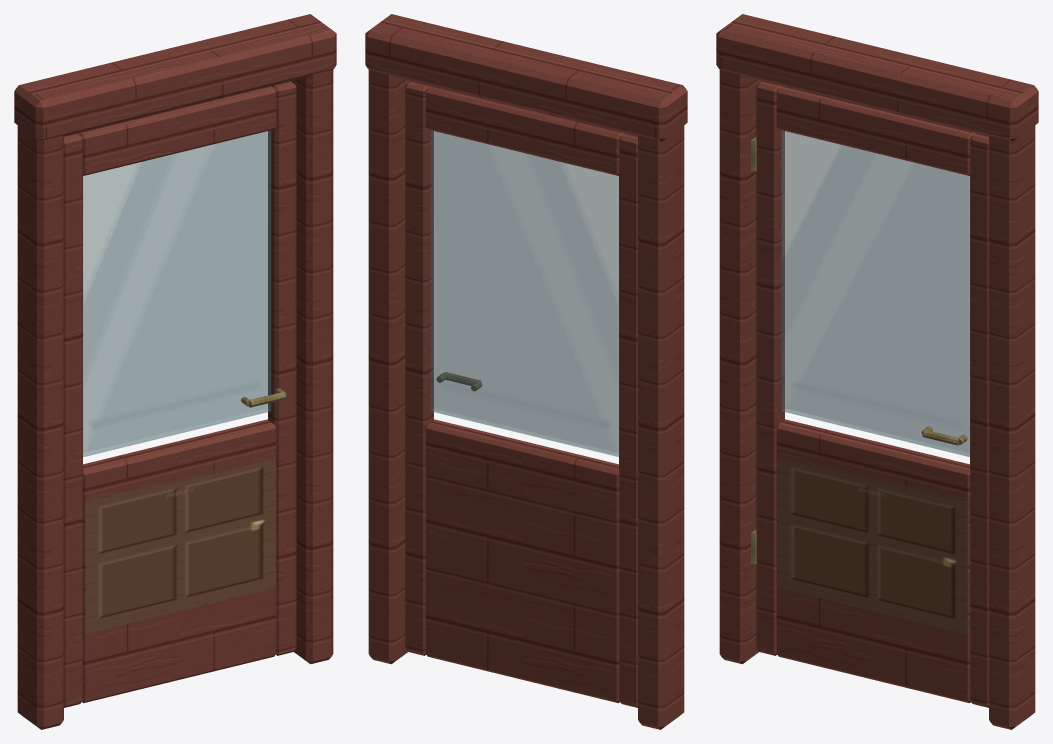
File: MD_10_GlazedDoor.fbx
The picture shows the model from 3 angles, left to right: view 1: azimuth 30°, elevation 25°; view 2: azimuth 150°, elevation 25°; view 3: azimuth 330°, elevation 25°; orthographic projection.
Visible parts, largest first — view 1: MD_10_GlazedDoor_glazed_insert, MD_10_GlazedDoor_door_casing, MD_10_GlazedDoor_lower_inlay, MD_10_GlazedDoor_door_casing.001, MD_10_GlazedDoor_door_crown, MD_10_GlazedDoor_leaf_other_stile, MD_10_GlazedDoor_leaf_crossrail, MD_10_GlazedDoor_hinged_leaf_stile, MD_10_GlazedDoor_leaf_crossrail.002, MD_10_GlazedDoor_leaf_crossrail.001; view 2: MD_10_GlazedDoor_glazed_insert, MD_10_GlazedDoor_door_casing, MD_10_GlazedDoor_lower_inlay, MD_10_GlazedDoor_door_casing.001, MD_10_GlazedDoor_door_crown, MD_10_GlazedDoor_leaf_crossrail, MD_10_GlazedDoor_leaf_other_stile, MD_10_GlazedDoor_hinged_leaf_stile, MD_10_GlazedDoor_leaf_crossrail.002, MD_10_GlazedDoor_leaf_crossrail.001; view 3: MD_10_GlazedDoor_glazed_insert, MD_10_GlazedDoor_door_casing.001, MD_10_GlazedDoor_lower_inlay, MD_10_GlazedDoor_door_casing, MD_10_GlazedDoor_door_crown, MD_10_GlazedDoor_hinged_leaf_stile, MD_10_GlazedDoor_leaf_crossrail, MD_10_GlazedDoor_leaf_other_stile, MD_10_GlazedDoor_leaf_crossrail.002, MD_10_GlazedDoor_leaf_crossrail.001.
Part boxes in pixels (x1=…): MD_10_GlazedDoor_glazed_insert: x1=83, y1=130, x2=271, y2=456; MD_10_GlazedDoor_door_casing: x1=17, y1=125, x2=63, y2=729; MD_10_GlazedDoor_lower_inlay: x1=82, y1=455, x2=276, y2=633; MD_10_GlazedDoor_door_casing.001: x1=291, y1=70, x2=333, y2=664; MD_10_GlazedDoor_door_crown: x1=14, y1=14, x2=336, y2=141; MD_10_GlazedDoor_leaf_other_stile: x1=268, y1=81, x2=296, y2=655; MD_10_GlazedDoor_leaf_crossrail: x1=82, y1=579, x2=276, y2=703; MD_10_GlazedDoor_hinged_leaf_stile: x1=64, y1=133, x2=82, y2=707; MD_10_GlazedDoor_leaf_crossrail.002: x1=77, y1=86, x2=276, y2=175; MD_10_GlazedDoor_leaf_crossrail.001: x1=82, y1=419, x2=276, y2=504; MD_10_GlazedDoor_glazed_insert: x1=430, y1=130, x2=618, y2=456; MD_10_GlazedDoor_door_casing: x1=638, y1=125, x2=684, y2=729; MD_10_GlazedDoor_lower_inlay: x1=425, y1=454, x2=619, y2=630; MD_10_GlazedDoor_door_casing.001: x1=368, y1=70, x2=410, y2=664; MD_10_GlazedDoor_door_crown: x1=365, y1=14, x2=687, y2=141; MD_10_GlazedDoor_leaf_crossrail: x1=425, y1=578, x2=619, y2=703; MD_10_GlazedDoor_leaf_other_stile: x1=405, y1=81, x2=433, y2=655; MD_10_GlazedDoor_hinged_leaf_stile: x1=619, y1=133, x2=637, y2=707; MD_10_GlazedDoor_leaf_crossrail.002: x1=425, y1=86, x2=624, y2=175; MD_10_GlazedDoor_leaf_crossrail.001: x1=425, y1=419, x2=619, y2=504; MD_10_GlazedDoor_glazed_insert: x1=781, y1=130, x2=969, y2=456; MD_10_GlazedDoor_door_casing.001: x1=989, y1=125, x2=1035, y2=729; MD_10_GlazedDoor_lower_inlay: x1=776, y1=454, x2=970, y2=633; MD_10_GlazedDoor_door_casing: x1=719, y1=70, x2=761, y2=664; MD_10_GlazedDoor_door_crown: x1=716, y1=14, x2=1038, y2=141; MD_10_GlazedDoor_hinged_leaf_stile: x1=756, y1=81, x2=784, y2=655; MD_10_GlazedDoor_leaf_crossrail: x1=776, y1=579, x2=970, y2=703; MD_10_GlazedDoor_leaf_other_stile: x1=970, y1=133, x2=988, y2=707; MD_10_GlazedDoor_leaf_crossrail.002: x1=776, y1=86, x2=975, y2=175; MD_10_GlazedDoor_leaf_crossrail.001: x1=776, y1=419, x2=970, y2=504.
Size of the model in its own units: 1.22 by 2.44 by 0.204.
Materials: 4 (4 with a texture image).
